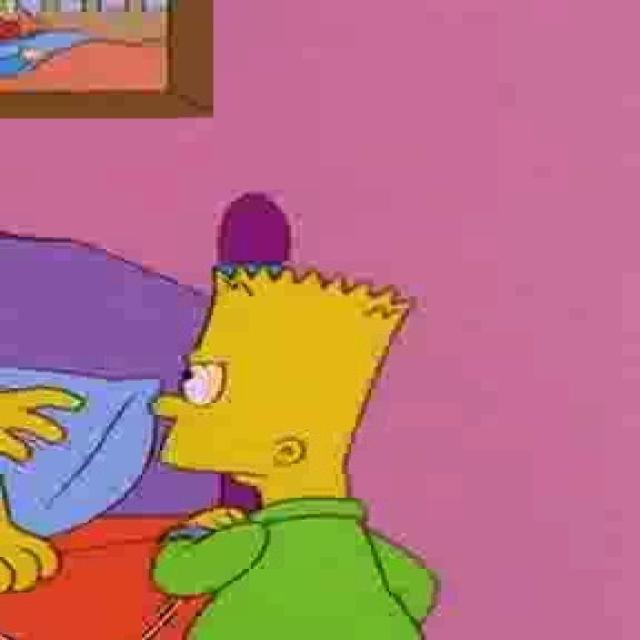Bart Simpson: (146, 264, 418, 509)
